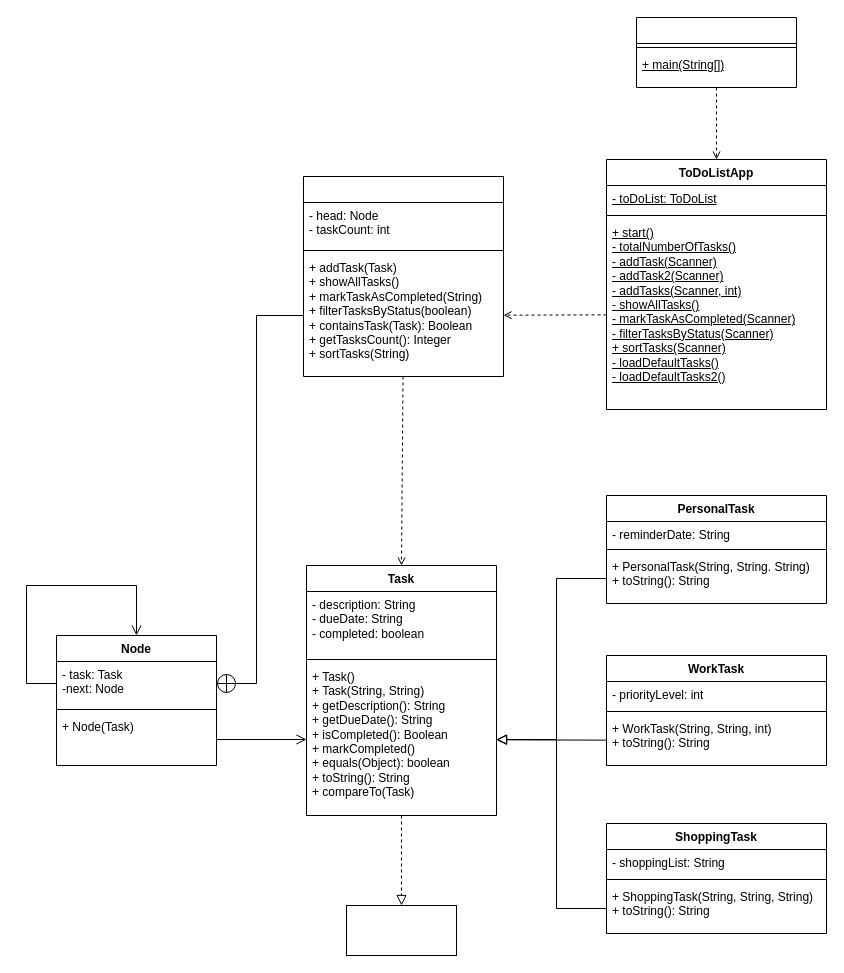
The diagram is 844 pixels wide and 973 high, and some of its shapes have lost their labels. Each missing label, with the box of its shape:
DriverMain: (636, 16, 796, 88)
ToDoList: (302, 176, 504, 376)
«interface» Comparable: (346, 904, 456, 956)
